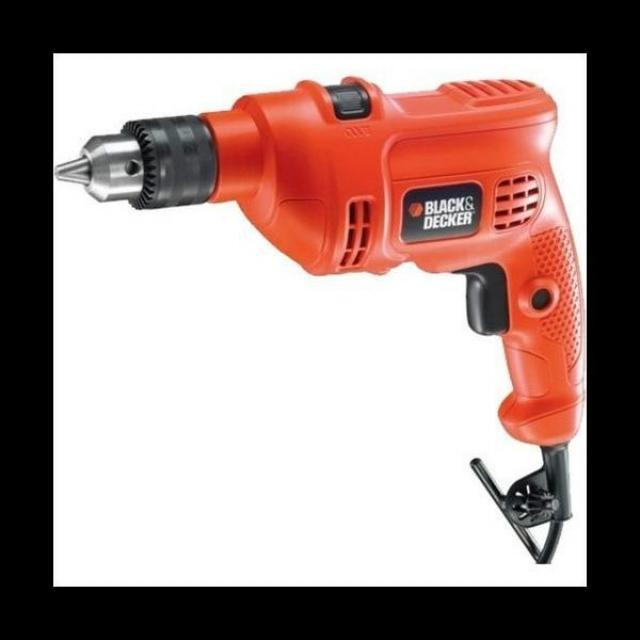drill: (53, 73, 588, 566)
